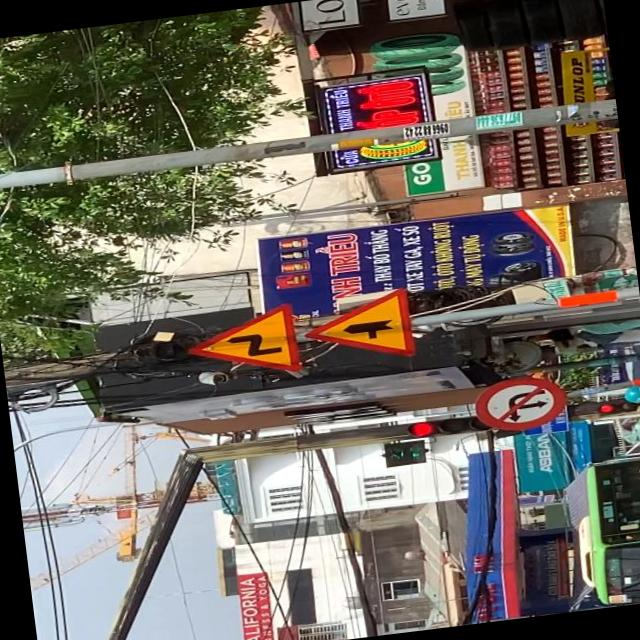P-124c: (470, 372, 571, 434)
W-202b: (181, 302, 296, 384)
W-207c: (298, 288, 414, 372)
